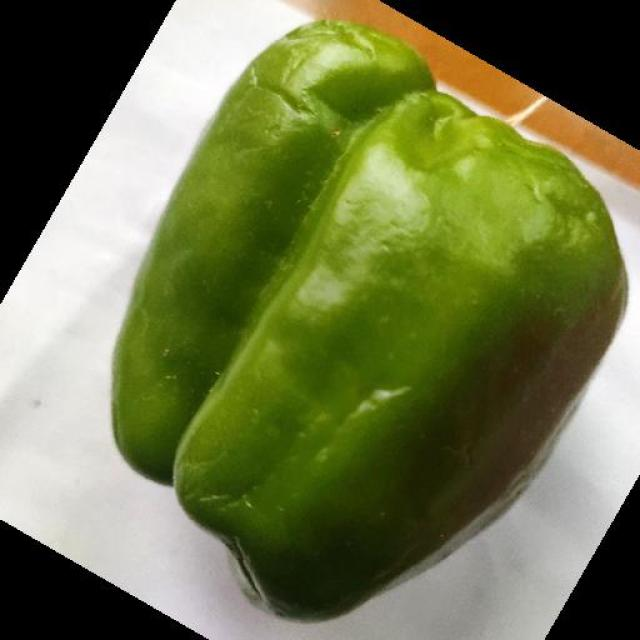Stale_Capsicum: (157, 39, 547, 582)
